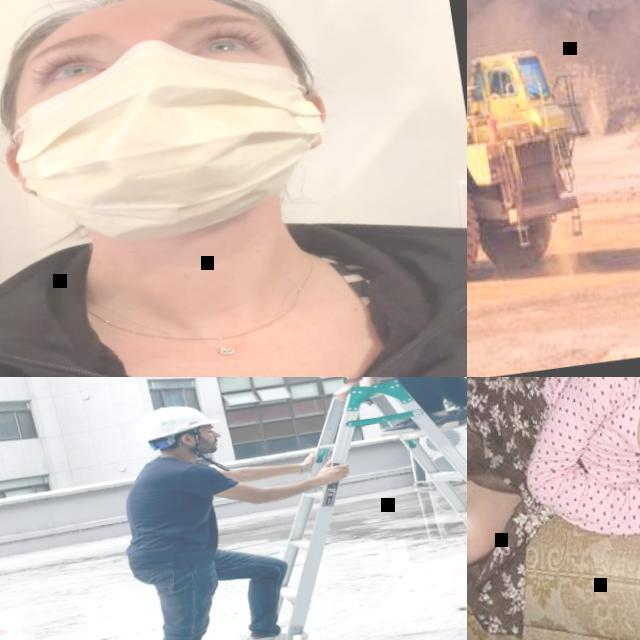helmet: (0, 0, 279, 61), (131, 399, 219, 445)
